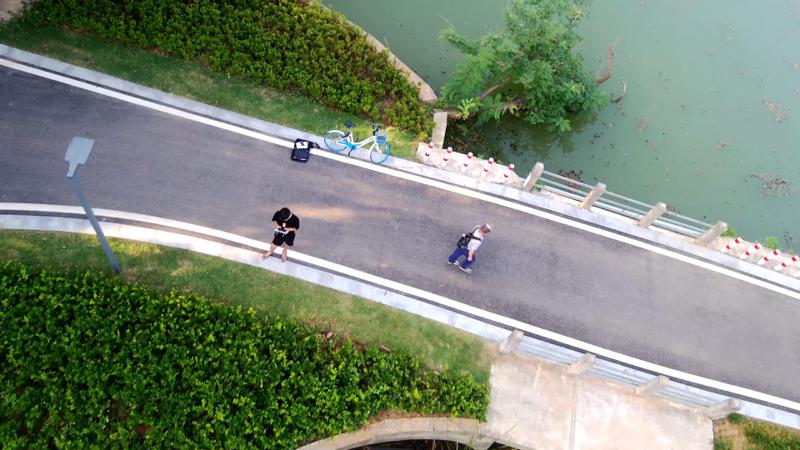passerby: (446, 220, 492, 275), (260, 204, 300, 265)
